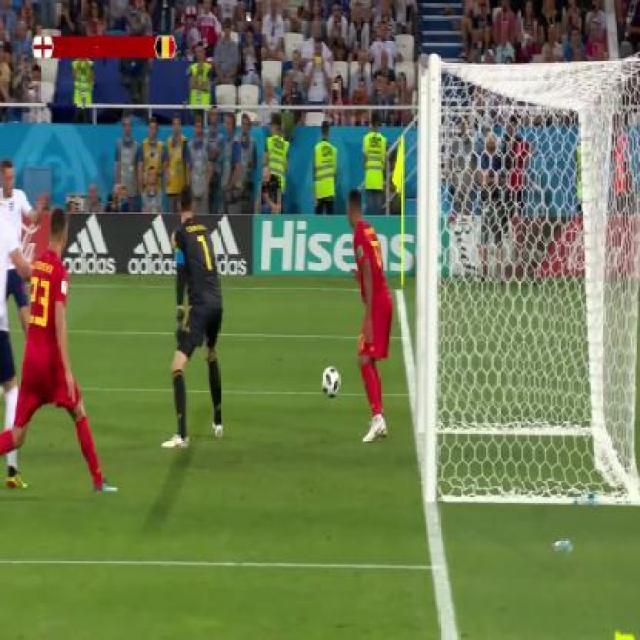ball: (319, 358, 344, 401)
player: (3, 199, 109, 510), (156, 181, 233, 450), (337, 180, 399, 451), (0, 146, 49, 408)
